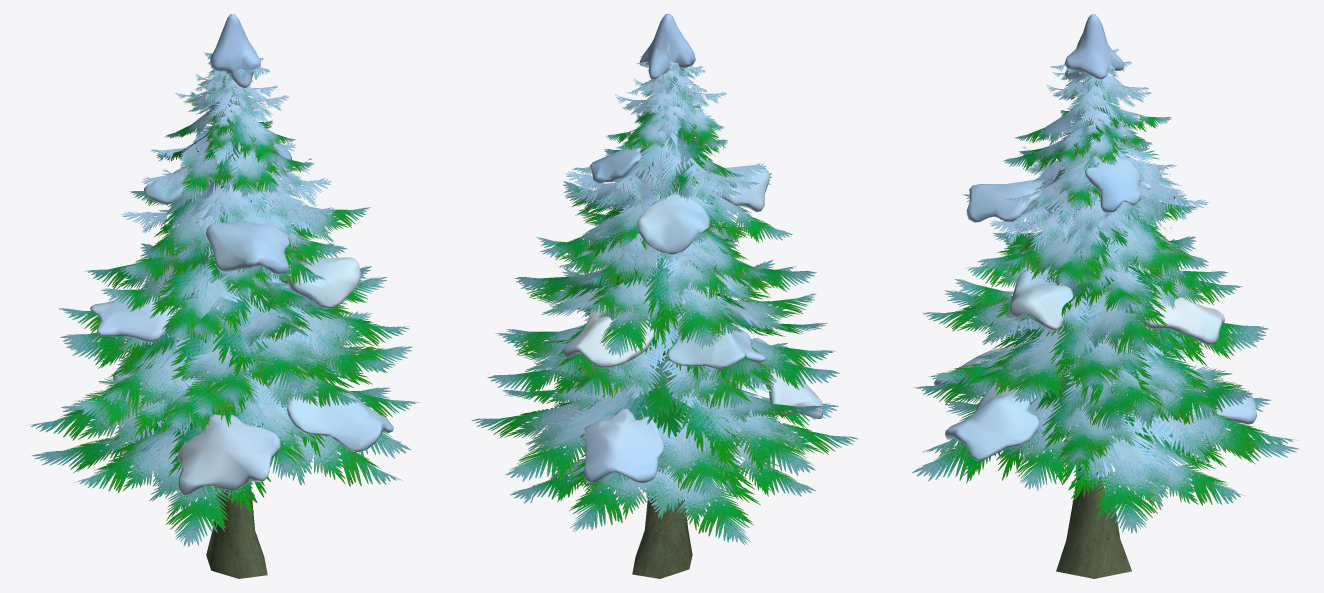
The model's file is songshu_xue.FBX.
The picture shows the model from 3 angles, left to right: view 1: azimuth 30°, elevation 25°; view 2: azimuth 150°, elevation 25°; view 3: azimuth 270°, elevation 25°; orthographic projection.
Parts seen in each view (by area): view 1: Group34294, Group54528; view 2: Group34294, Group54528; view 3: Group34294, Group54528.
Part boxes in pixels (left/top/right/bottom): Group34294: left=27, top=52, right=419, bottom=578; Group54528: left=90, top=14, right=393, bottom=495; Group34294: left=471, top=56, right=858, bottom=578; Group54528: left=563, top=14, right=823, bottom=483; Group34294: left=912, top=49, right=1299, bottom=578; Group54528: left=934, top=14, right=1256, bottom=460.
Bounding box in the file's own units: 215 × 302 × 203.
